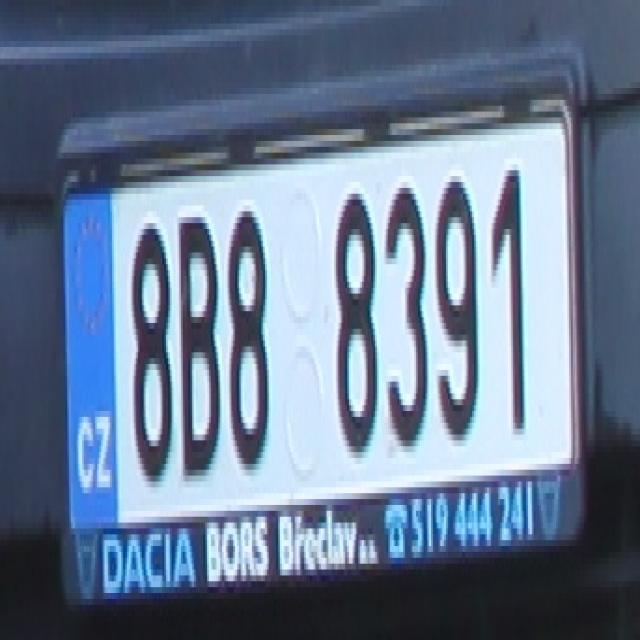1: (489, 153, 526, 440)
3: (384, 176, 430, 452)
8: (220, 200, 274, 470), (127, 223, 173, 487), (332, 188, 379, 446)
9: (434, 159, 480, 446)
B: (176, 218, 220, 482)
